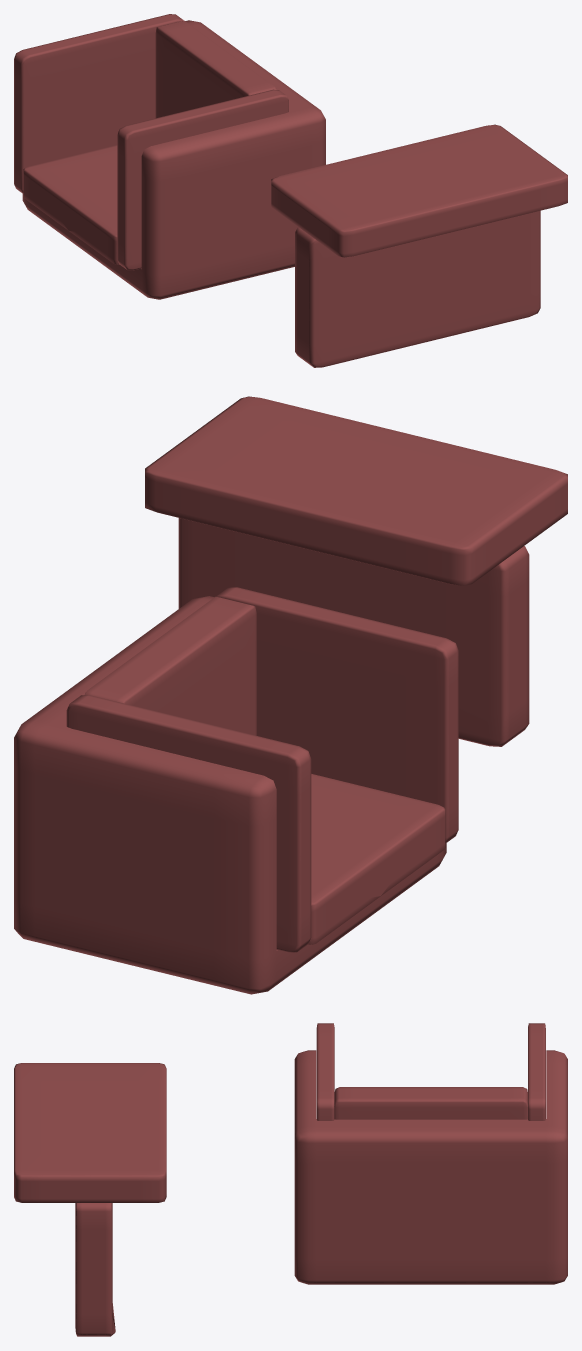
File: desk.fbx
3 views of the same model, one above another, from view 1: azimuth 30°, elevation 25°; view 2: azimuth 150°, elevation 25°; view 3: azimuth 270°, elevation 25° (orthographic). The views are drawn at different scales.
Visible parts, largest first — view 1: living_room_seat, bar_table_thingy; view 2: living_room_seat, bar_table_thingy; view 3: living_room_seat, bar_table_thingy.
Boxes of the visible parts, bbox=[...] form: living_room_seat: bbox=[14, 14, 325, 299]; bar_table_thingy: bbox=[271, 124, 567, 367]; living_room_seat: bbox=[14, 587, 458, 994]; bar_table_thingy: bbox=[145, 396, 567, 746]; living_room_seat: bbox=[294, 1023, 567, 1284]; bar_table_thingy: bbox=[14, 1063, 166, 1336].
Bounding box in the file's own units: 137 × 73.46 × 216.
